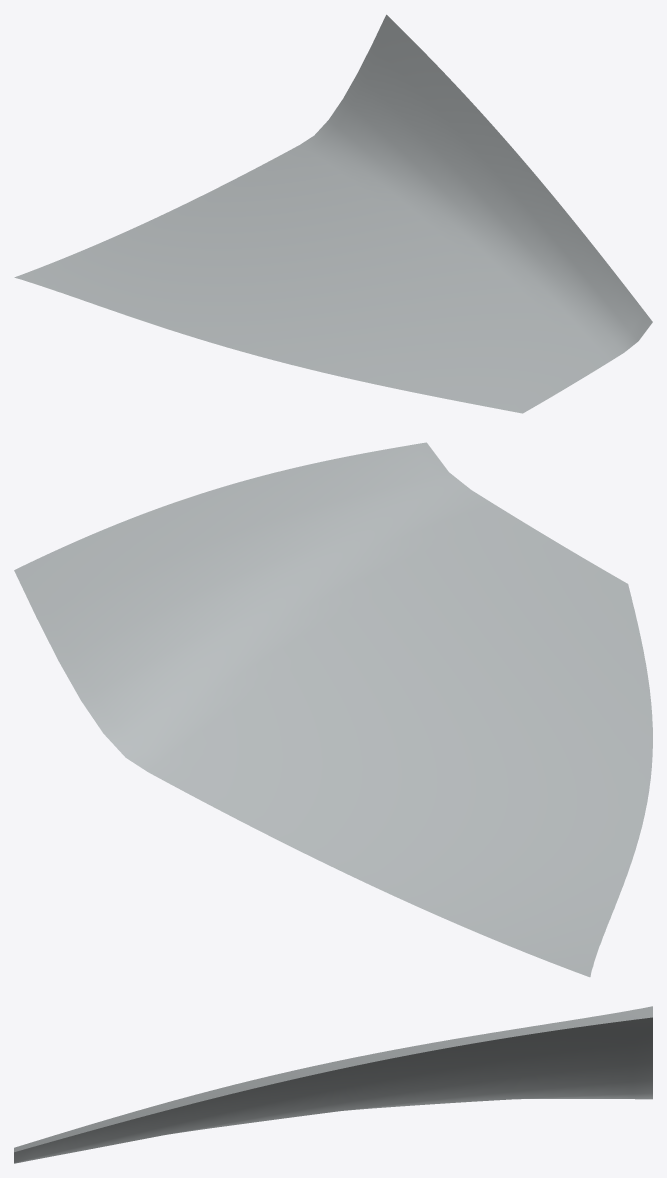
Rendered from alpine-11-9.glb.
3 renders of one model, top to bottom at view 1: azimuth 30°, elevation 25°; view 2: azimuth 150°, elevation 25°; view 3: azimuth 270°, elevation 25°, orthographic. The views are drawn at different scales.
Parts seen in each view (by area): view 1: alpine-11-9; view 2: alpine-11-9; view 3: alpine-11-9.
Part boxes in pixels (left/top/right/bottom): alpine-11-9: left=14, top=14, right=652, bottom=413; alpine-11-9: left=14, top=442, right=652, bottom=977; alpine-11-9: left=14, top=1006, right=652, bottom=1163.
Size of the model in its own units: 206 by 91.27 by 256.
Materials: 1 (1 with a texture image).
